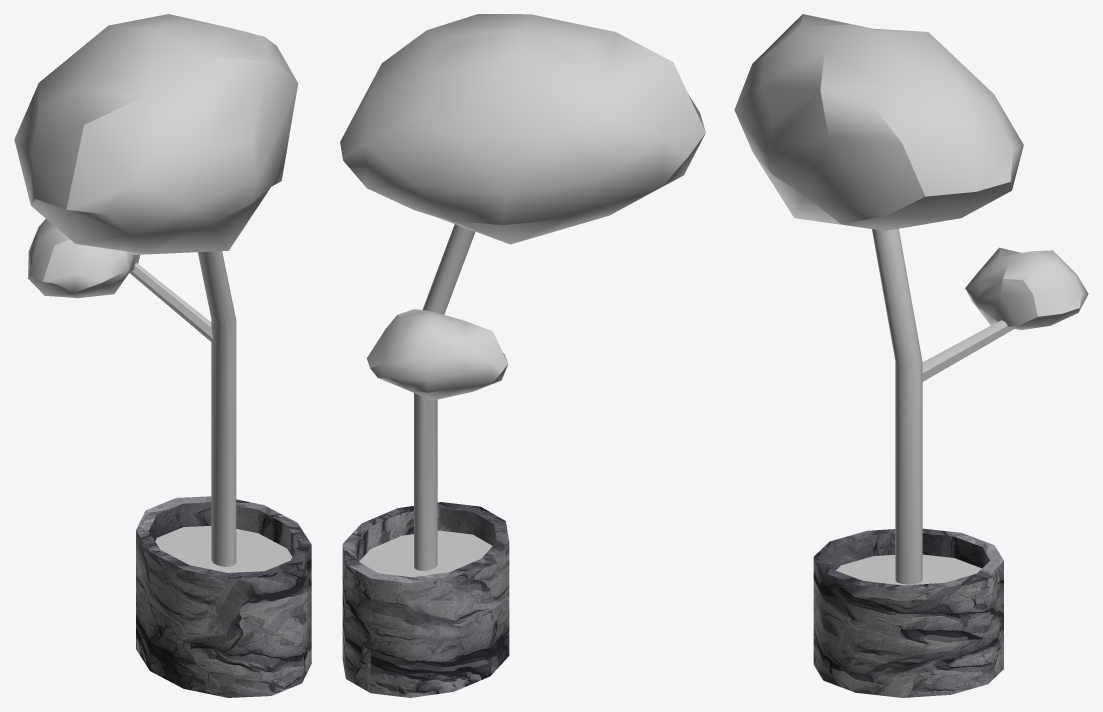
File: Planta2.obj
The picture shows the model from 3 angles, left to right: view 1: azimuth 30°, elevation 25°; view 2: azimuth 150°, elevation 25°; view 3: azimuth 270°, elevation 25°; orthographic projection. The views are drawn at different scales.
Visible parts, largest first — view 1: Planta2:Mesh; view 2: Planta2:Mesh; view 3: Planta2:Mesh.
Boxes of the visible parts, x1,y1,x2,y2 form: Planta2:Mesh: [14, 14, 311, 697]; Planta2:Mesh: [340, 14, 705, 697]; Planta2:Mesh: [734, 14, 1088, 697].
Bounding box in the file's own units: 0.575 × 1.2 × 0.6465.
